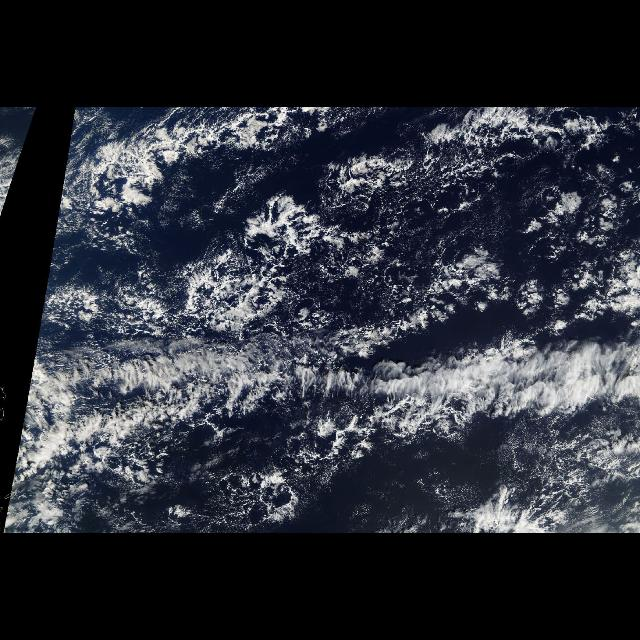Fish: (45, 346, 630, 444)
